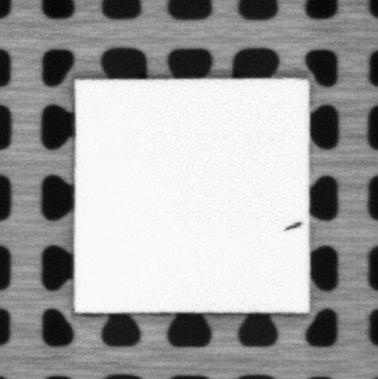DIE_INK: (284, 219, 303, 232)
